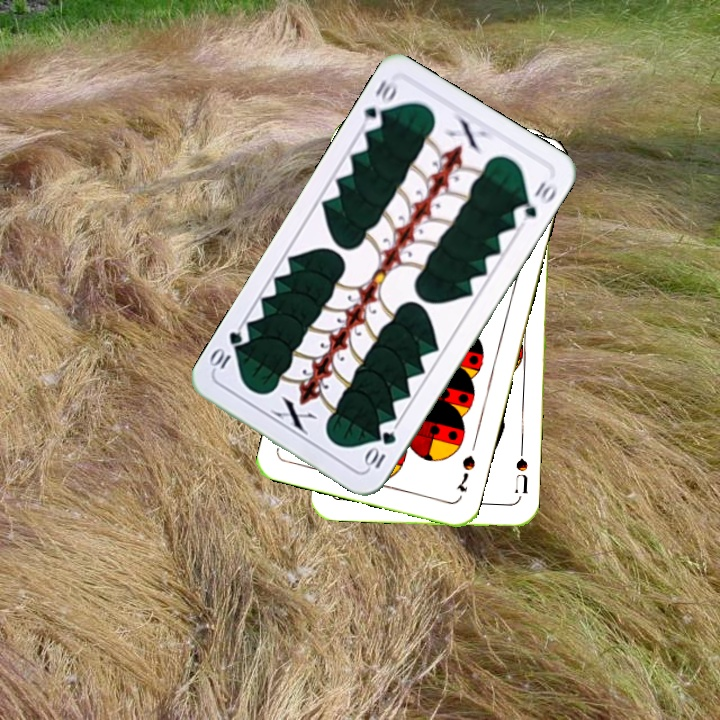G10: (357, 75, 401, 134), (361, 427, 399, 472)
S7: (452, 451, 478, 495)
SU: (510, 443, 530, 496)
